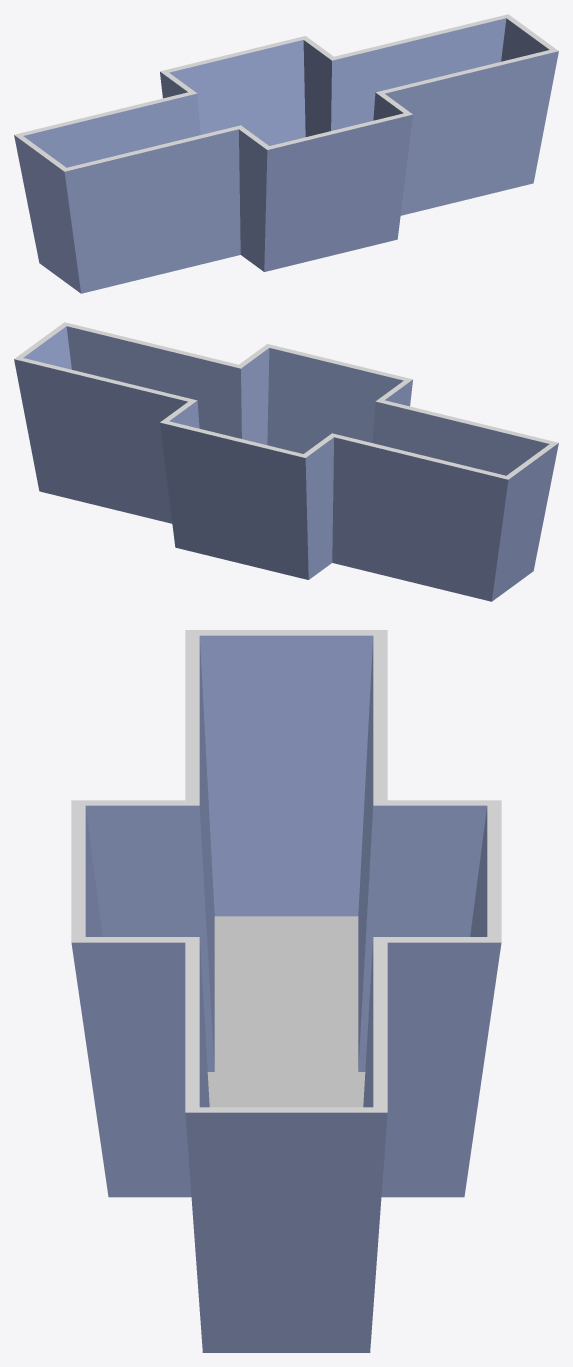
Rendered from Room0.fbx.
3 views of the same model, one above another, from view 1: azimuth 30°, elevation 25°; view 2: azimuth 150°, elevation 25°; view 3: azimuth 270°, elevation 25° (orthographic). The views are drawn at different scales.
Parts seen in each view (by area): view 1: Room2.001; view 2: Room2.001; view 3: Room2.001.
Boxes of the visible parts, box(x1,y1,x2,y2) form: Room2.001: box(14, 14, 558, 293); Room2.001: box(14, 322, 558, 601); Room2.001: box(71, 630, 501, 1352).
Bounding box in the file's own units: 1910 × 481 × 719.
